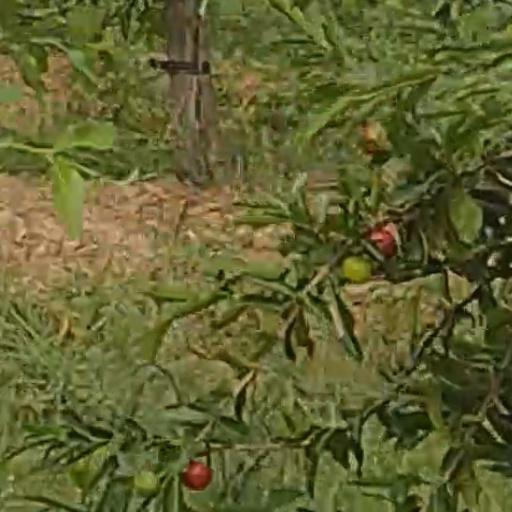acerola_verde: (343, 255, 373, 284)
acerola_vermelha: (370, 230, 398, 258), (183, 465, 211, 491)
